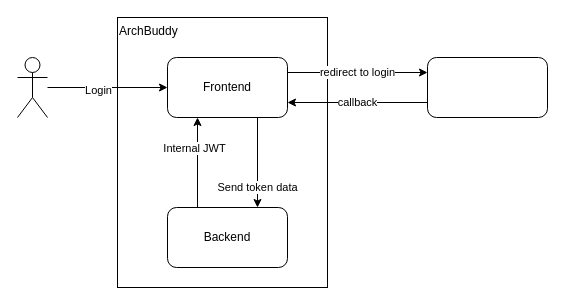
This 565x305 diagram has some shape labels left out. Each missing label, with the centre of its shape:
Google: the point at 487,87
User: the point at 32,87
